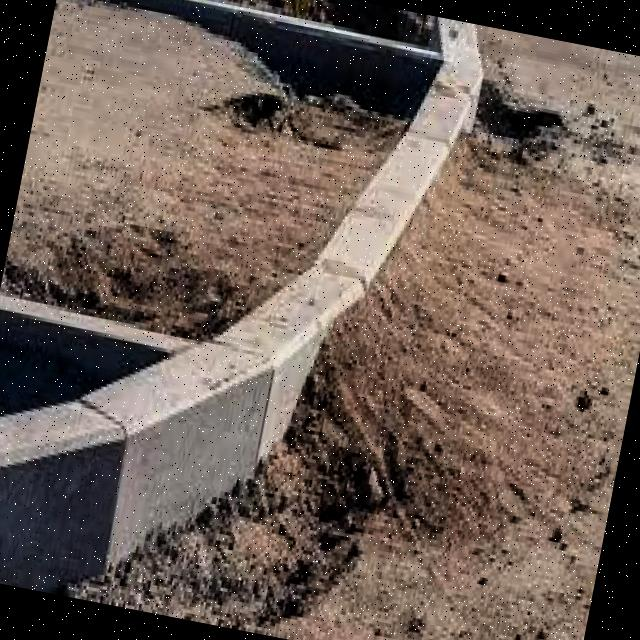curb: (1, 268, 339, 630), (279, 214, 406, 395), (355, 119, 476, 269), (422, 23, 508, 121)
